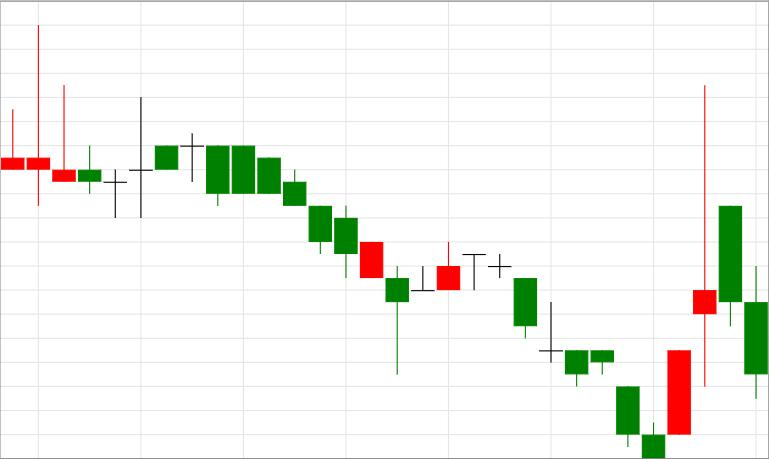morning_star_rise: (488, 253, 691, 459)
